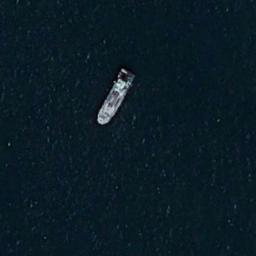boat: (96, 68, 136, 126)
